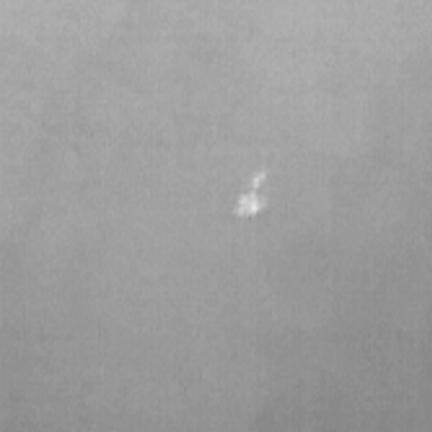flukeprints: (234, 170, 266, 218)
